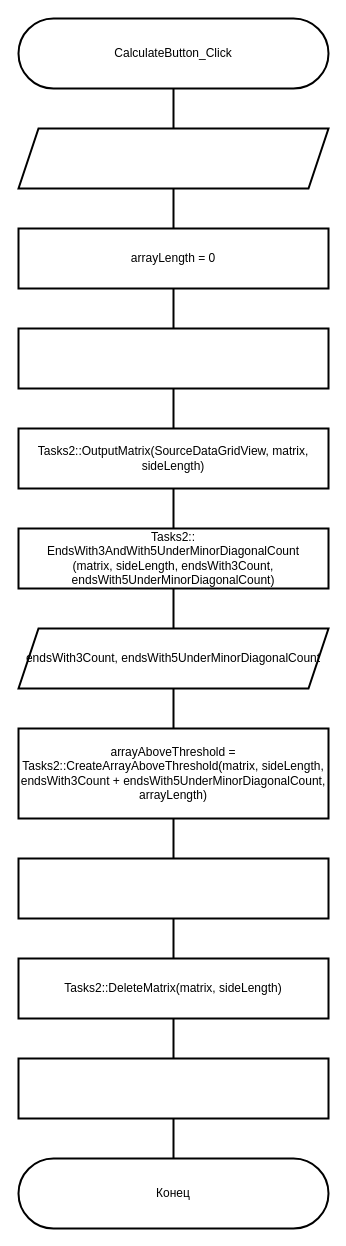
Image size: 346x1246. Some labels were removed from this diagram. The centre of each missing label's shape, as x and y in pixels:
delete[] arrayAboveThreshold: pixel 173 1088
matrix = Tasks2::GenerateMatrix(sideLength): pixel 173 358
sideLength: pixel 173 158
Tasks1::OutputArray(ResultArrayDataGridView, arrayAboveThreshold, arrayLength): pixel 173 888
